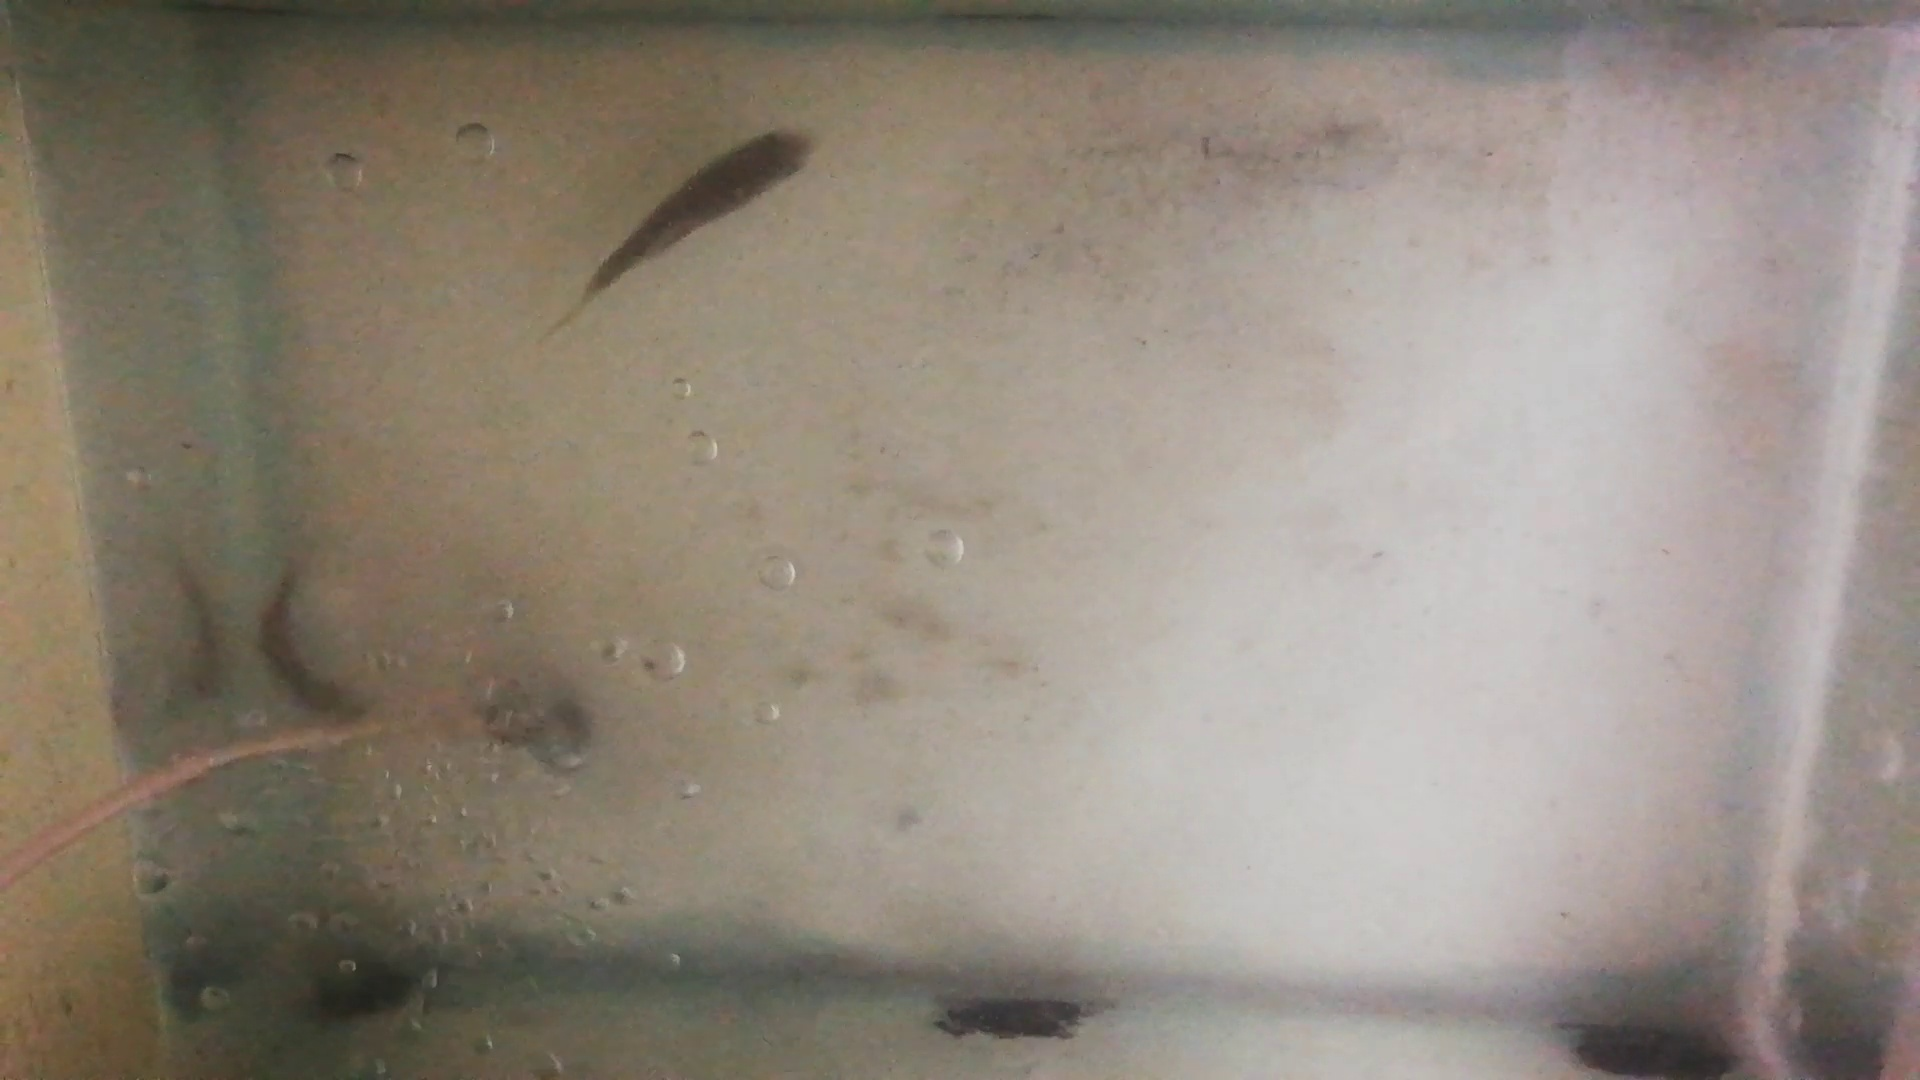fish: (582, 133, 822, 285), (251, 571, 369, 719)
